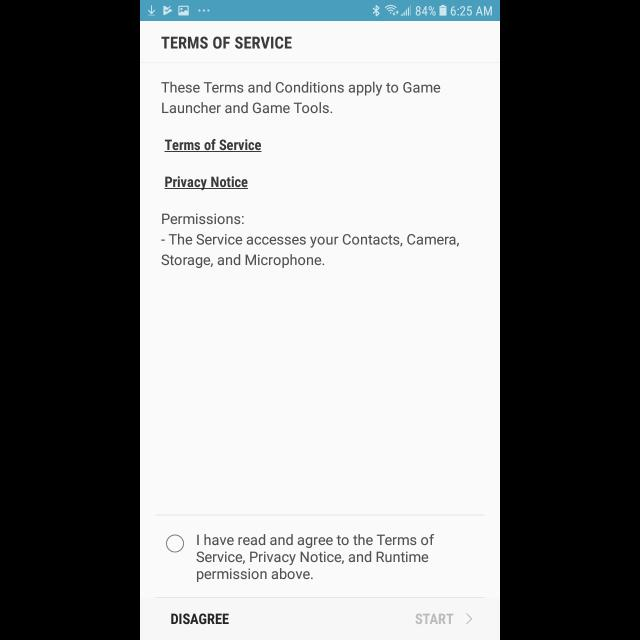checkbox: (166, 534, 184, 552)
icon: (466, 614, 472, 624)
text: (197, 534, 435, 582), (161, 234, 459, 268), (162, 82, 440, 114), (162, 36, 292, 50), (164, 176, 248, 190), (165, 140, 262, 152), (162, 213, 244, 224), (171, 614, 229, 624), (416, 614, 454, 624)
uppertaskbar: (140, 1, 500, 22)
